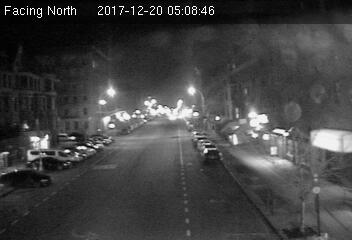car: (202, 148, 223, 162)
